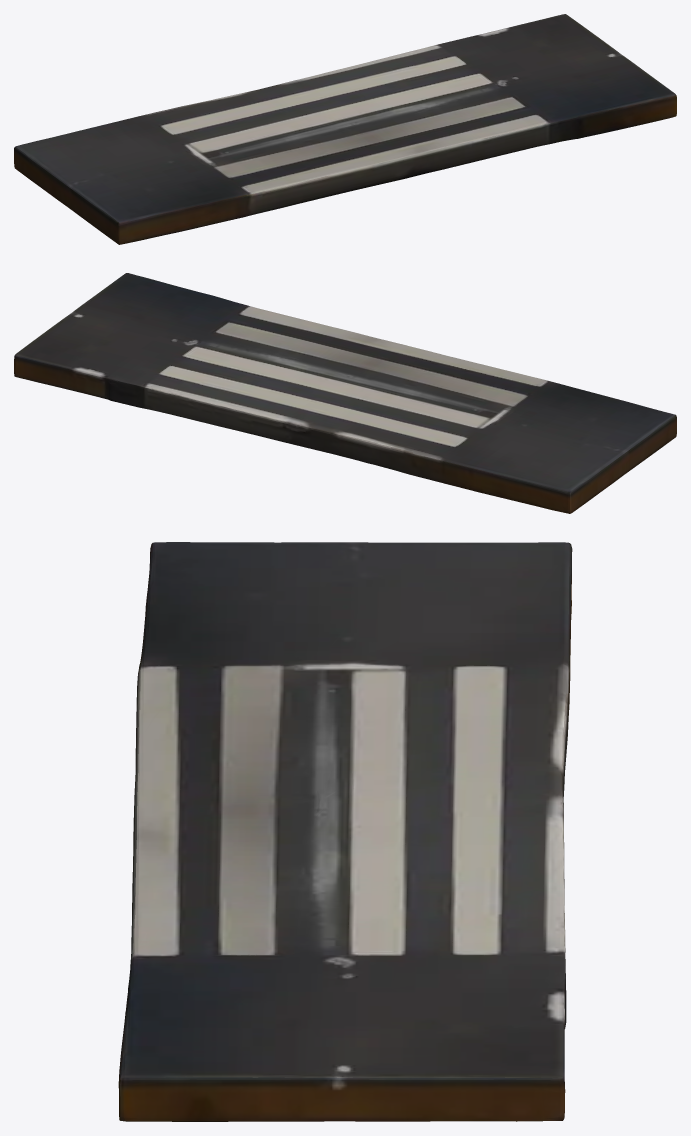
File: crosswalk.glb
3 views of the same model, one above another, from view 1: azimuth 30°, elevation 25°; view 2: azimuth 150°, elevation 25°; view 3: azimuth 270°, elevation 25° (orthographic). The views are drawn at different scales.
Parts seen in each view (by area): view 1: world; view 2: world; view 3: world.
Part boxes in pixels (x1,y1,x2,y2): world: (14, 14, 676, 244); world: (14, 273, 676, 513); world: (118, 542, 572, 1121).
Size of the model in its own units: 1 by 0.042 by 0.3566.
Materials: 1 (1 with a texture image).
